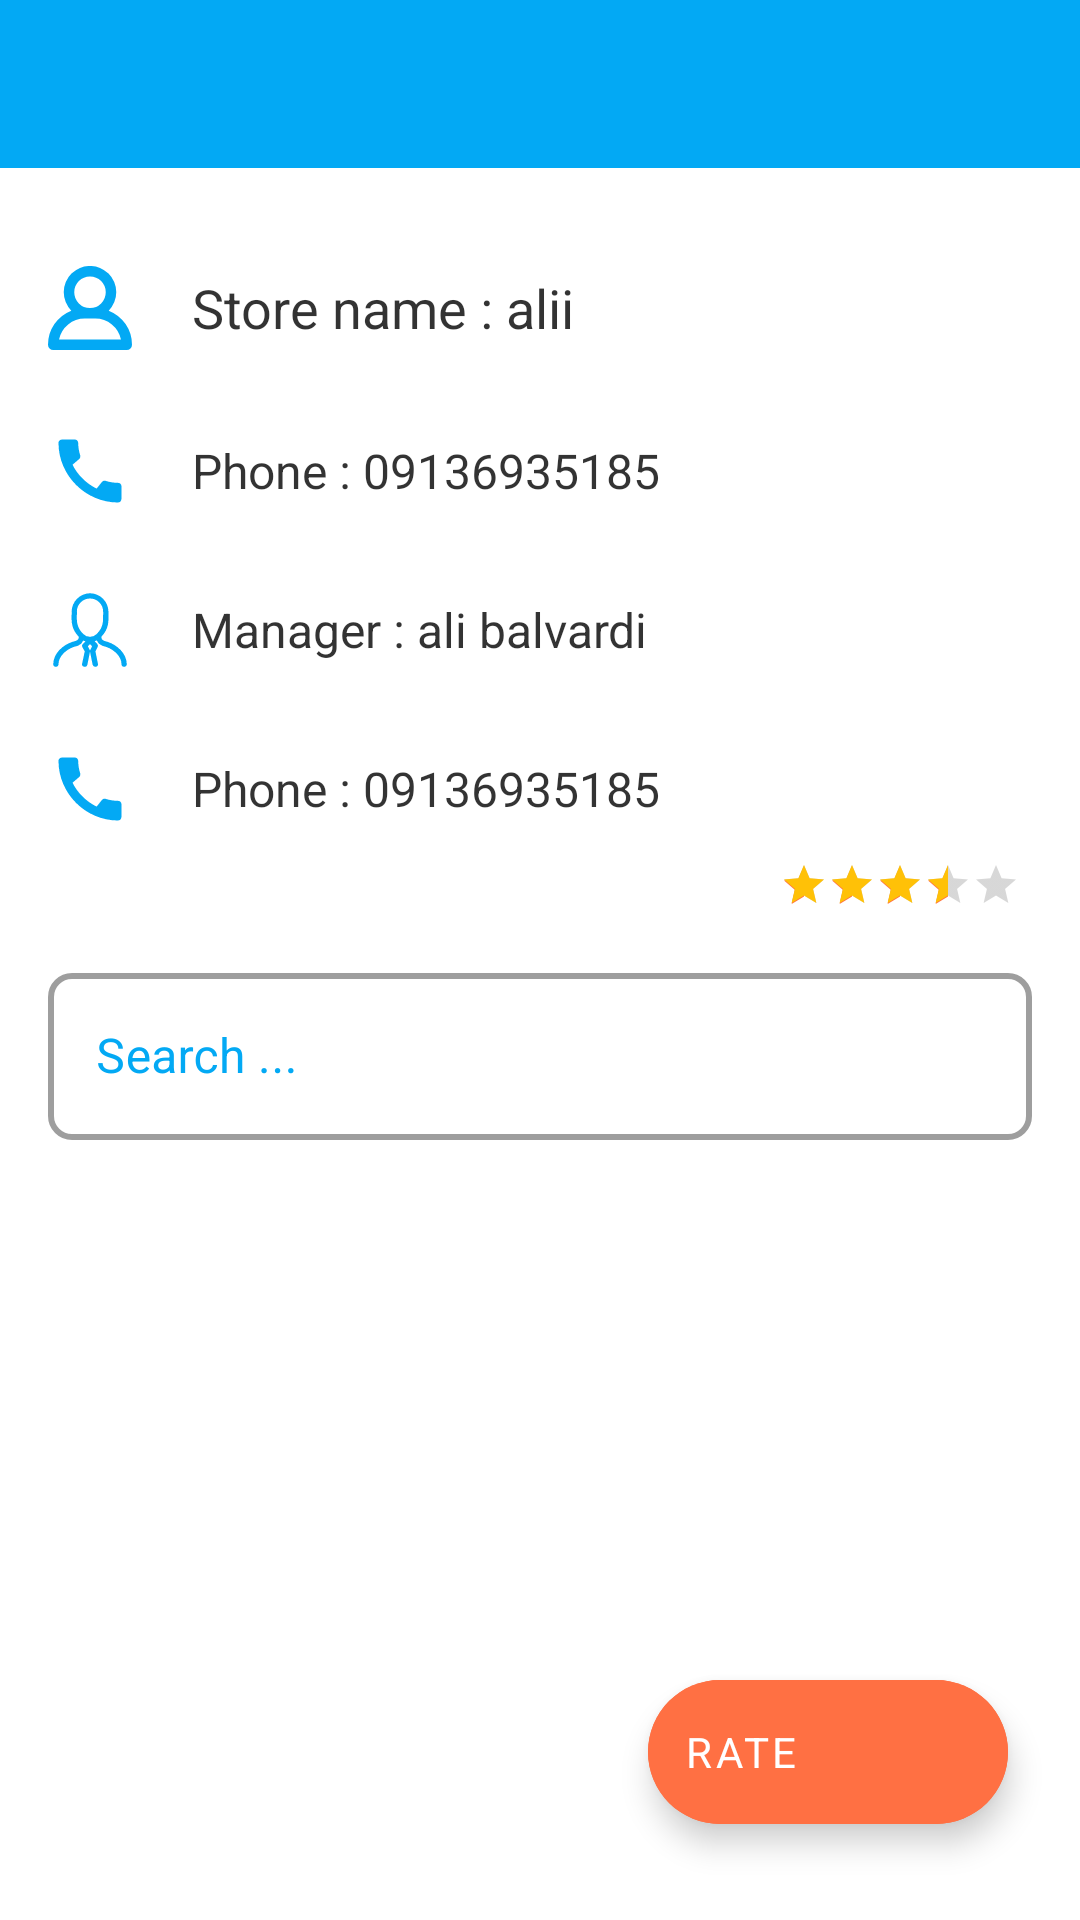

Icons on this 1080×1920 Android screen, each with its box as (x1, y1, x2, y2):
call: (58, 439, 122, 503), (58, 757, 122, 821)
profile: (48, 266, 132, 350)
